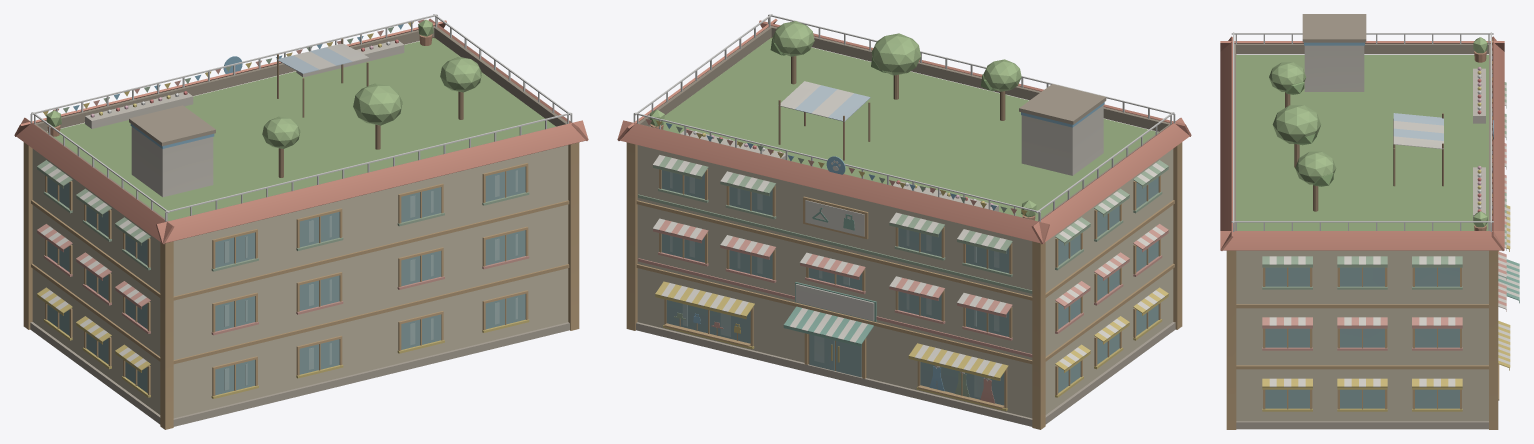
File: mall_exterior4.glb
3 views of the same model, side by side, from view 1: azimuth 30°, elevation 25°; view 2: azimuth 150°, elevation 25°; view 3: azimuth 270°, elevation 25° (orthographic). The views are drawn at different scales.
Visible parts, largest first — view 1: mall.exterior4; view 2: mall.exterior4, sign; view 3: mall.exterior4.
Boxes of the visible parts, x1=… form: mall.exterior4: x1=14, y1=14, x2=588, y2=429; mall.exterior4: x1=617, y1=14, x2=1191, y2=429; sign: x1=795, y1=282, x2=876, y2=321; mall.exterior4: x1=1220, y1=14, x2=1519, y2=429.
Bounding box in the file's own units: 25.2 × 14.49 × 16.
